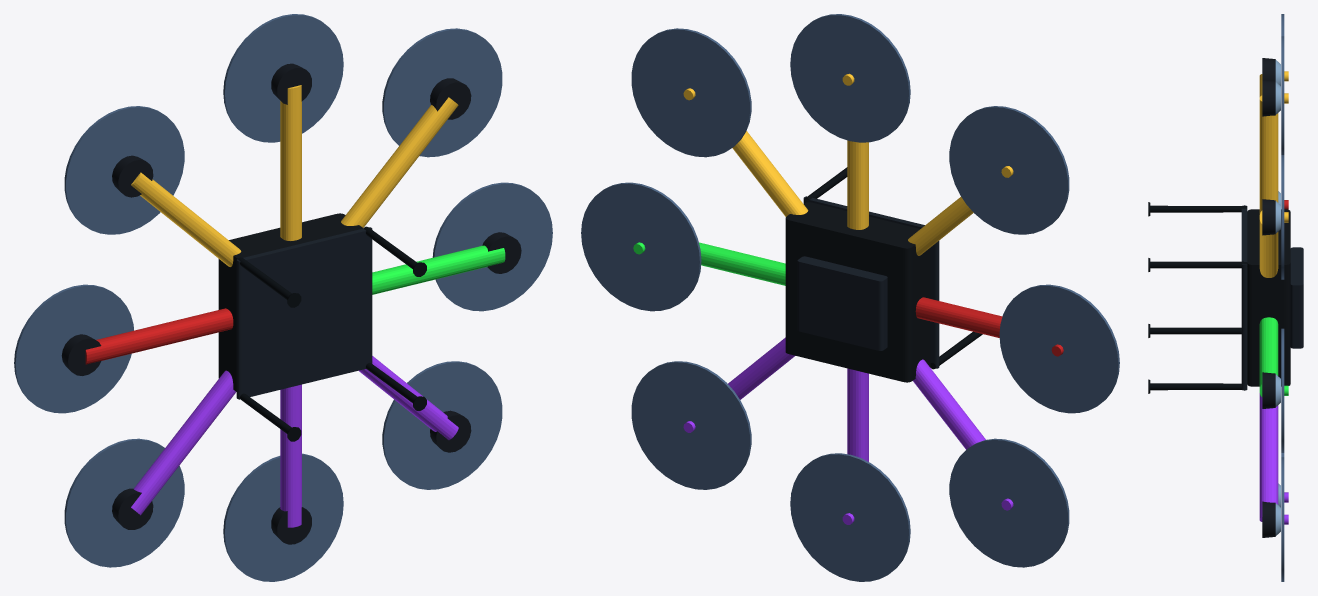
File: px4_octarotor.obj
3 views of the same model, side by side, from view 1: azimuth 30°, elevation 25°; view 2: azimuth 150°, elevation 25°; view 3: azimuth 270°, elevation 25° (orthographic). The views are drawn at different scales.
Parts seen in each view (by area): view 1: prop_grey_5, body_mid_1, yellow_metal_2, motor_dark_3, purple_metal_7, body_dark_0, red_metal_6, green_metal_8, leg_dark_9; view 2: prop_grey_5, body_dark_0, body_mid_1, purple_metal_7, yellow_metal_2, green_metal_8, red_metal_6, leg_dark_9; view 3: body_dark_0, yellow_metal_2, leg_dark_9, body_mid_1, motor_dark_3, purple_metal_7, prop_grey_5, green_metal_8, motor_silver_4.
Part boxes in pixels (x1,y1,x2,y2): prop_grey_5: (14,14,552,581); body_mid_1: (236,227,372,399); yellow_metal_2: (131,85,458,266); motor_dark_3: (61,63,521,544); purple_metal_7: (131,356,458,527); body_dark_0: (218,213,363,391); red_metal_6: (85,308,233,364); green_metal_8: (372,245,505,294); leg_dark_9: (238,226,426,441); prop_grey_5: (581,14,1119,581); body_dark_0: (785,202,930,382); body_mid_1: (797,196,939,368); purple_metal_7: (683,337,1013,524); yellow_metal_2: (683,73,1013,255); green_metal_8: (633,242,785,285); red_metal_6: (915,297,1063,356); leg_dark_9: (804,167,982,369); body_dark_0: (1247,209,1290,386); yellow_metal_2: (1259,71,1288,277); leg_dark_9: (1148,202,1247,393); body_mid_1: (1241,205,1303,390); motor_dark_3: (1262,58,1275,537); purple_metal_7: (1259,393,1288,524); prop_grey_5: (1281,14,1284,581); green_metal_8: (1259,317,1288,396); motor_silver_4: (1275,60,1280,535).
Bounding box in the file's own units: 1.17 × 1.18 × 0.3232.
